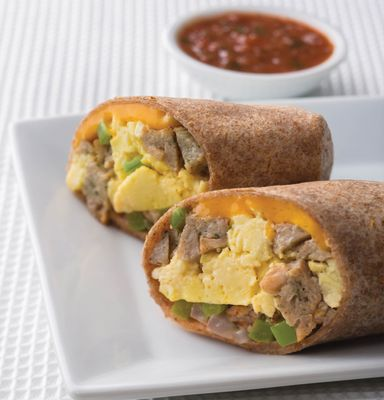soup: (141, 181, 384, 355), (65, 95, 336, 241)
sushi: (161, 4, 347, 101)
